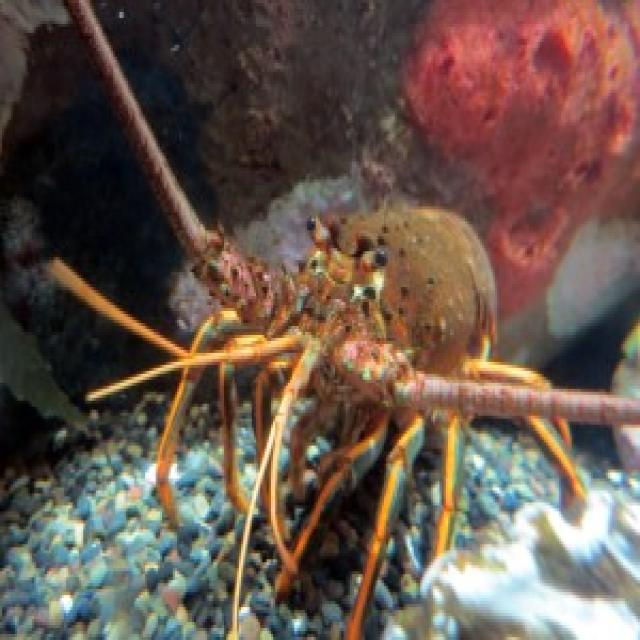lobsters: (58, 36, 614, 574)
